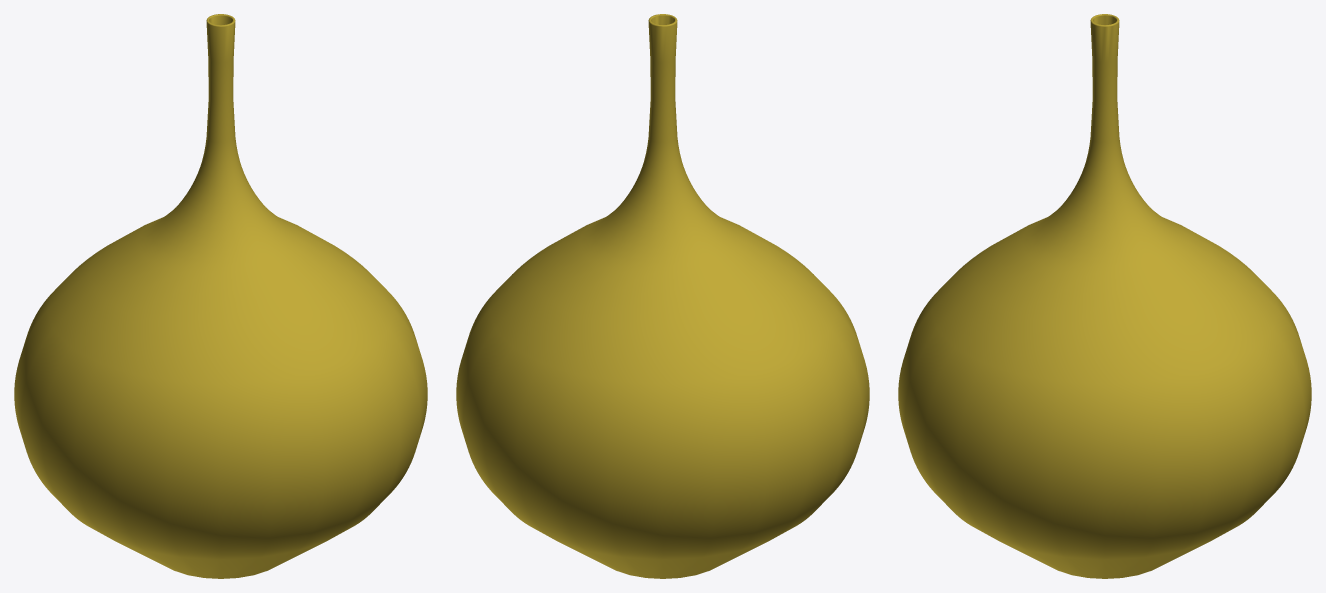
Rendered from Pot7.fbx.
The picture shows the model from 3 angles, left to right: view 1: azimuth 30°, elevation 25°; view 2: azimuth 150°, elevation 25°; view 3: azimuth 270°, elevation 25°; orthographic projection.
Parts seen in each view (by area): view 1: Pot7; view 2: Pot7; view 3: Pot7.
Part boxes in pixels (left/top/right/bottom): Pot7: left=14, top=14, right=427, bottom=578; Pot7: left=456, top=14, right=869, bottom=578; Pot7: left=898, top=14, right=1311, bottom=578.
Bounding box in the file's own units: 0.1558 × 0.2216 × 0.1558.
